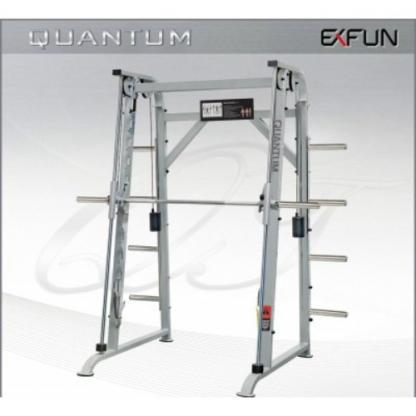smith machine: (76, 59, 347, 399)
